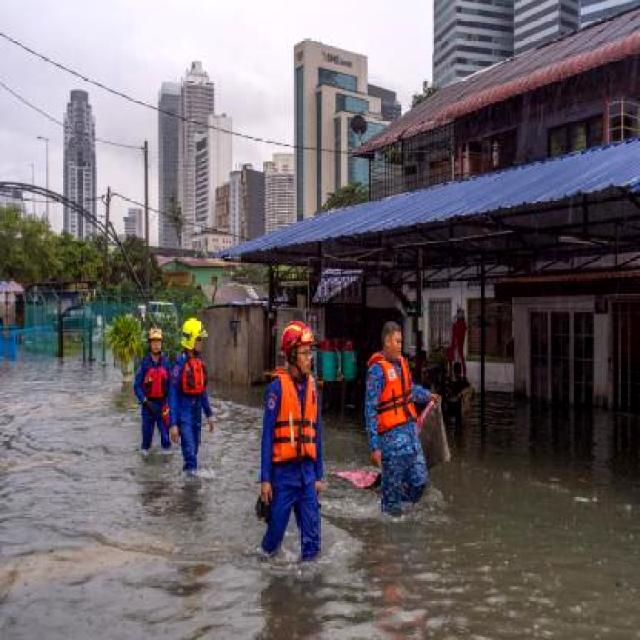rescuer: (247, 317, 329, 573), (362, 317, 442, 531), (166, 311, 222, 478), (128, 313, 176, 473)
